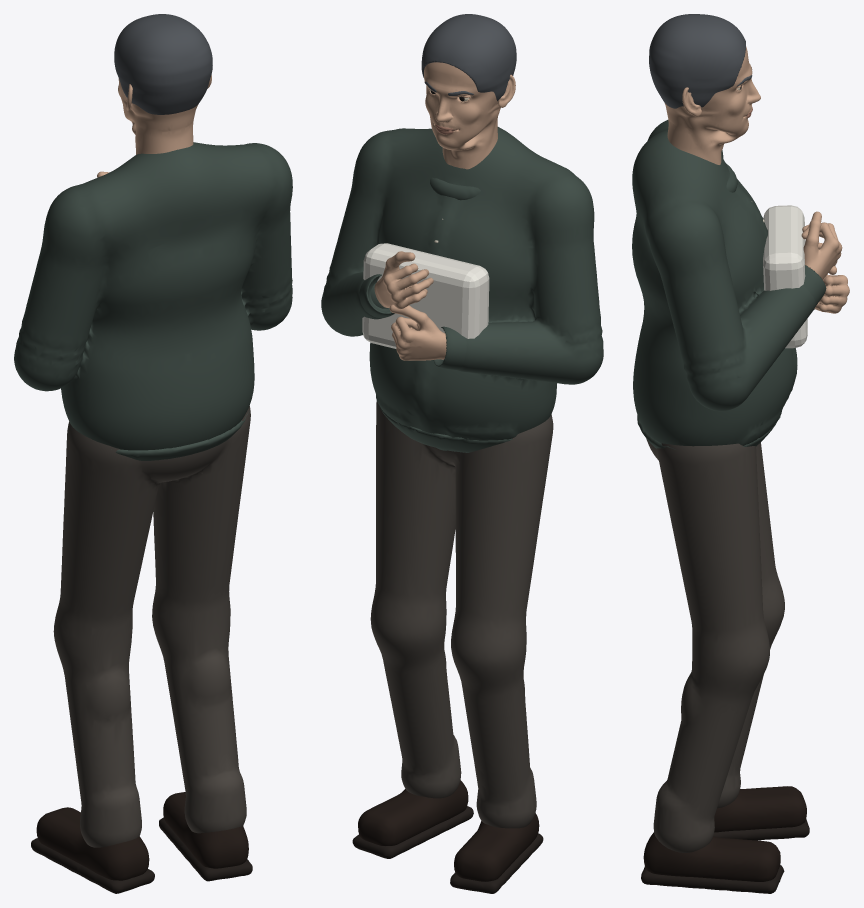
Rendered from preacher_bag.glb.
The picture shows the model from 3 angles, left to right: view 1: azimuth 30°, elevation 25°; view 2: azimuth 150°, elevation 25°; view 3: azimuth 270°, elevation 25°; orthographic projection. The views are drawn at different scales.
Visible parts, largest first — view 1: preacher_bag_body, preacher_bag_head; view 2: preacher_bag_body, preacher_bag_head, bag, preacher_bag_hands; view 3: preacher_bag_body, preacher_bag_head, bag, preacher_bag_hands.
Part boxes in pixels (x1,y1,x2,y2): preacher_bag_body: [14, 142, 292, 893]; preacher_bag_head: [114, 14, 212, 154]; preacher_bag_body: [321, 127, 603, 893]; preacher_bag_head: [421, 14, 516, 169]; bag: [362, 243, 489, 348]; preacher_bag_hands: [359, 251, 466, 370]; preacher_bag_body: [632, 120, 815, 893]; preacher_bag_head: [649, 14, 760, 164]; bag: [763, 205, 807, 348]; preacher_bag_hands: [801, 211, 849, 313].
Size of the model in its own units: 0.6051 by 1.77 by 0.4187.
